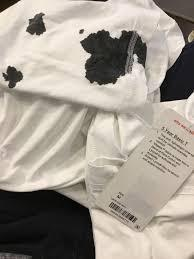ink: (82, 31, 141, 84), (2, 65, 25, 88), (26, 13, 46, 36)
